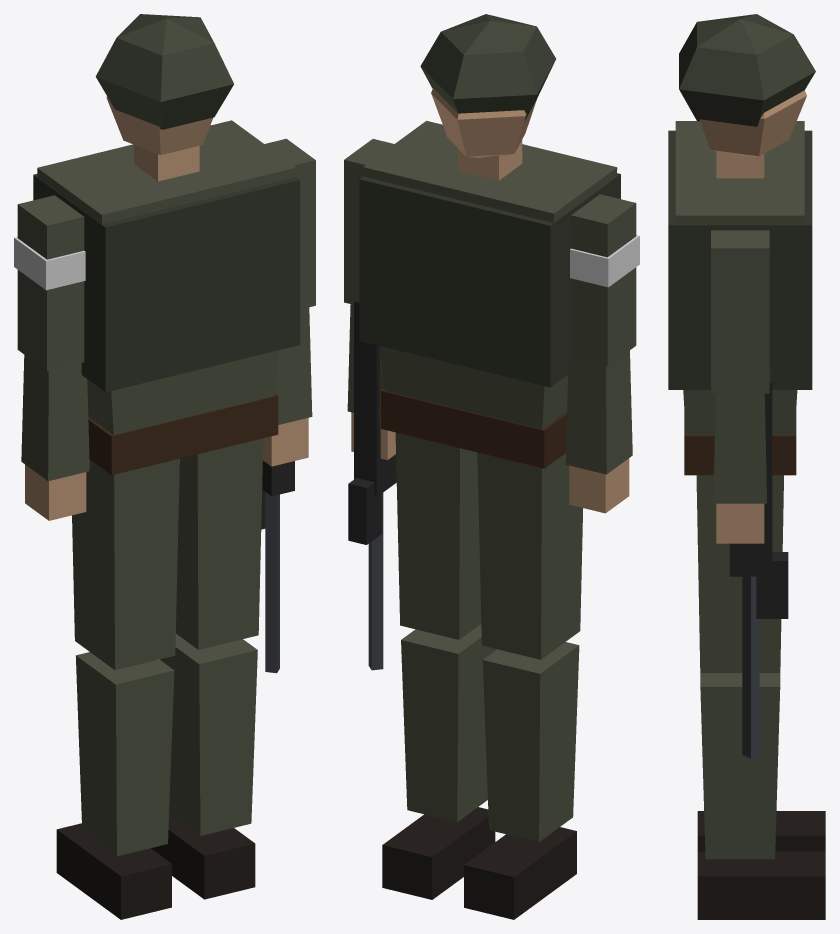
The model's file is soldier_mod_rifle_lod1.glb.
3 views of the same model, side by side, from view 1: azimuth 30°, elevation 25°; view 2: azimuth 150°, elevation 25°; view 3: azimuth 270°, elevation 25° (orthographic). The views are drawn at different scales.
Parts seen in each view (by area): view 1: mod_rifle_lod1_static; view 2: mod_rifle_lod1_static; view 3: mod_rifle_lod1_static.
Boxes of the visible parts, x1,y1,x2,y2 form: mod_rifle_lod1_static: (14,14,315,919); mod_rifle_lod1_static: (344,14,639,919); mod_rifle_lod1_static: (668,14,825,919).
Bounding box in the file's own units: 0.585 × 1.79 × 0.295.
